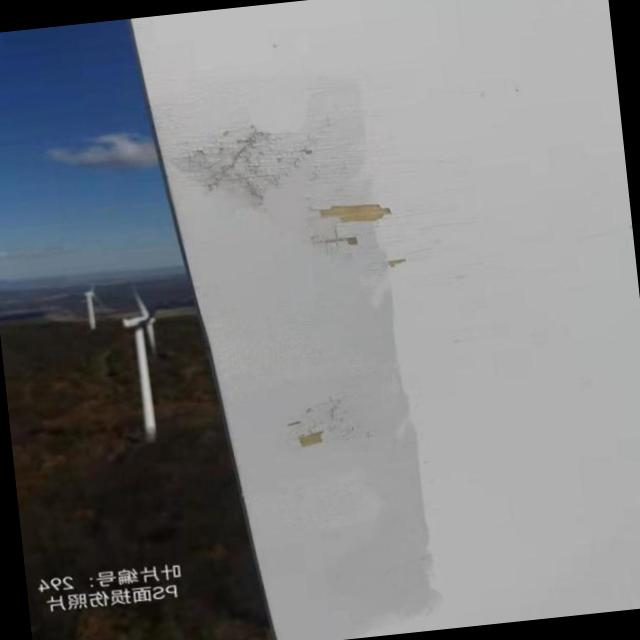corrosion: (185, 128, 272, 212)
surface_peeling: (316, 191, 394, 232), (292, 428, 331, 451)
